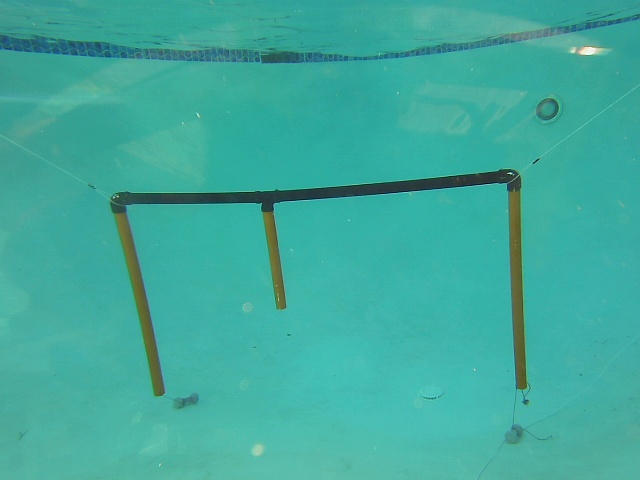Gate: (112, 209, 166, 400), (507, 185, 530, 395), (262, 210, 289, 316)
